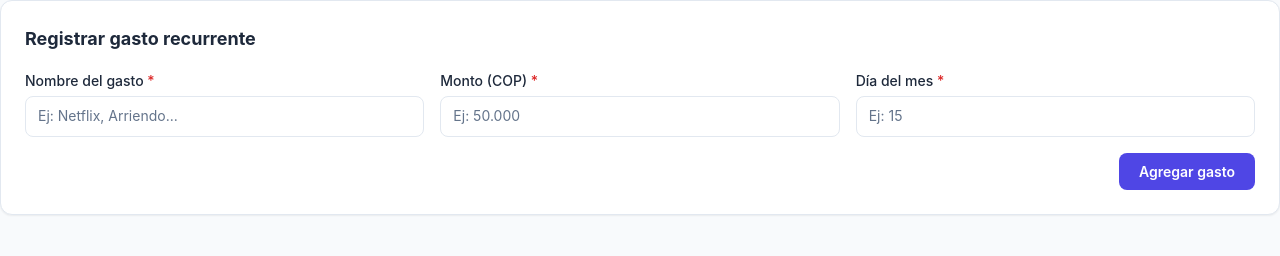
Test: ExpenseForm — validación › muestra error si se envía el formulario vacío
Click the button "Agregar gasto": point(1187, 171) [1119,153,1255,190]
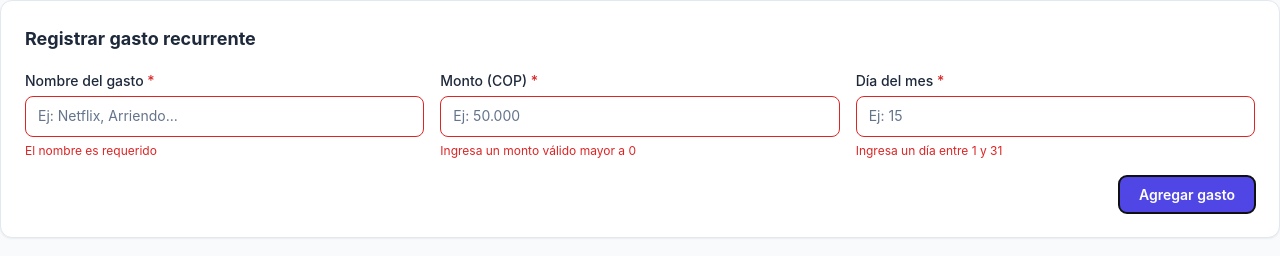
Check: the text "El nombre es requerido" is shown, box [25,143,157,158]
Check: the text "Ingresa un monto válido mayor a 0" is shown, box [440,143,636,158]
Check: the text "Ingresa un día entre 1 y 31" is shown, box [856,143,1002,158]
